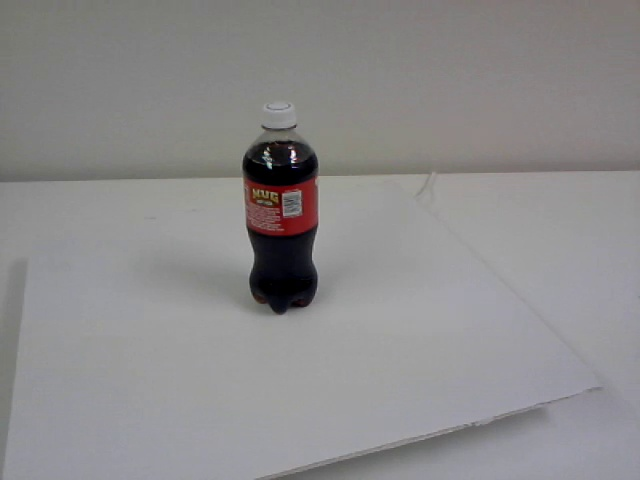botolplastik: (244, 104, 321, 315)
